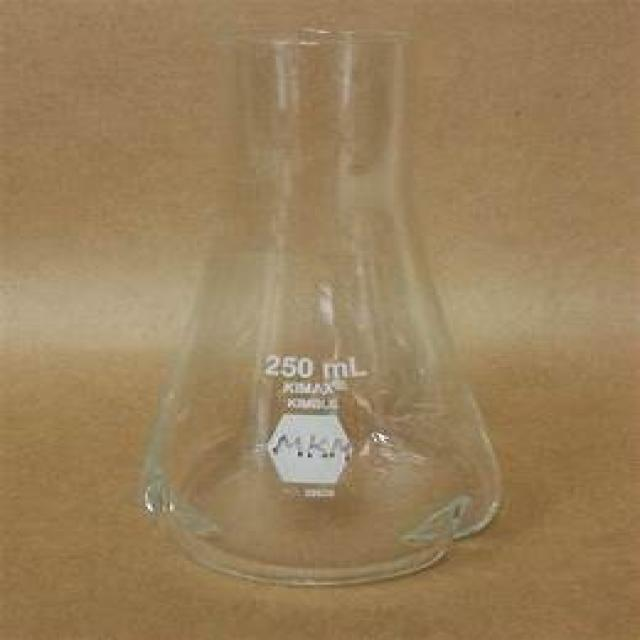Titrarion: (139, 35, 502, 589)
